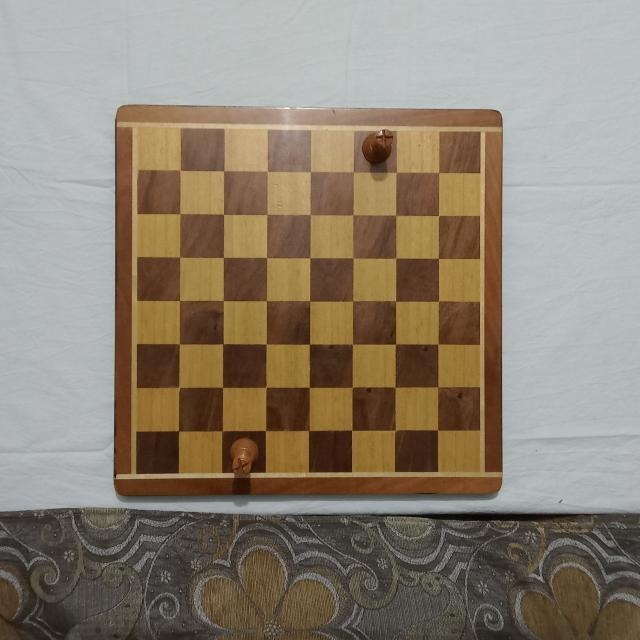white-rook: (361, 126, 395, 166), (226, 436, 257, 476)
